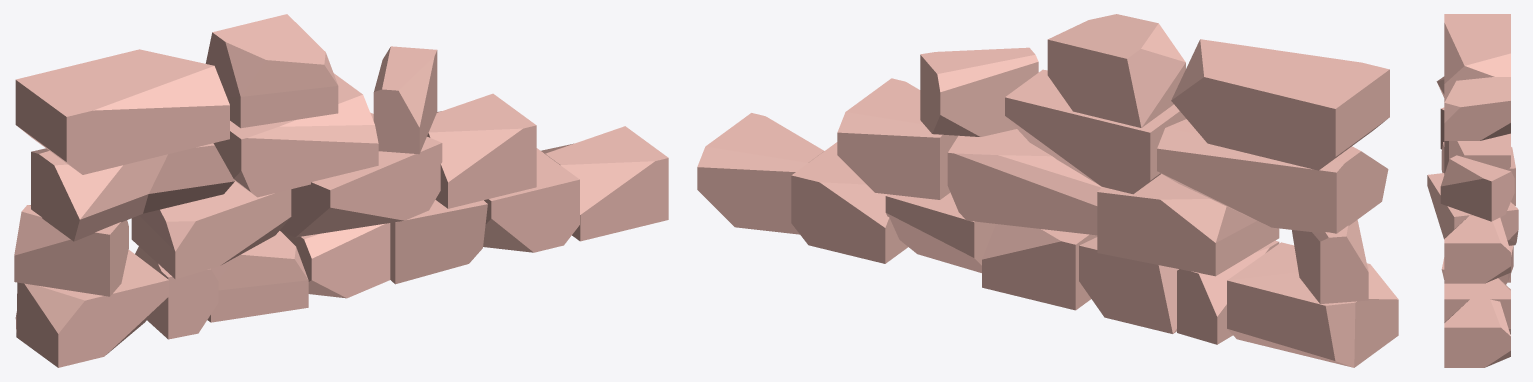
Rendered from Mega_Asset_s_Pack_Cube_224.FBX.
The picture shows the model from 3 angles, left to right: view 1: azimuth 30°, elevation 25°; view 2: azimuth 150°, elevation 25°; view 3: azimuth 270°, elevation 25°; orthographic projection. The views are drawn at different scales.
Visible parts, largest first — view 1: Mega_Asset_s_Pack_Cube_224; view 2: Mega_Asset_s_Pack_Cube_224; view 3: Mega_Asset_s_Pack_Cube_224.
Part boxes in pixels (bbox=[...]): Mega_Asset_s_Pack_Cube_224: bbox=[14, 14, 668, 367]; Mega_Asset_s_Pack_Cube_224: bbox=[697, 14, 1398, 367]; Mega_Asset_s_Pack_Cube_224: bbox=[1427, 14, 1518, 367].
Size of what is drawn, in the model's own units: 447 by 87.46 by 172.
